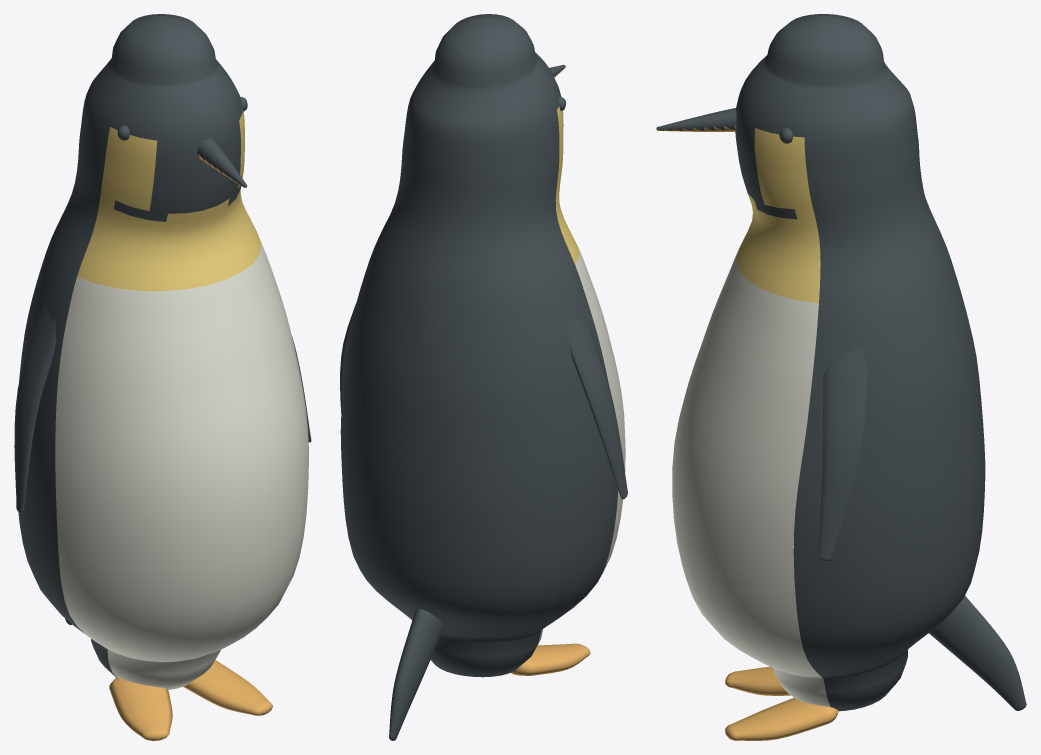
File: penguin.glb
3 renders of one model, left to right at view 1: azimuth 30°, elevation 25°; view 2: azimuth 150°, elevation 25°; view 3: azimuth 270°, elevation 25°, orthographic. The views are drawn at different scales.
Parts seen in each view (by area): view 1: emperor-penguin; view 2: emperor-penguin; view 3: emperor-penguin.
Boxes of the visible parts, x1,y1,x2,y2 form: emperor-penguin: (14, 14, 311, 740); emperor-penguin: (340, 14, 627, 740); emperor-penguin: (656, 14, 1026, 740).
Size of the model in its own units: 0.4946 by 1.1 by 0.5306.
